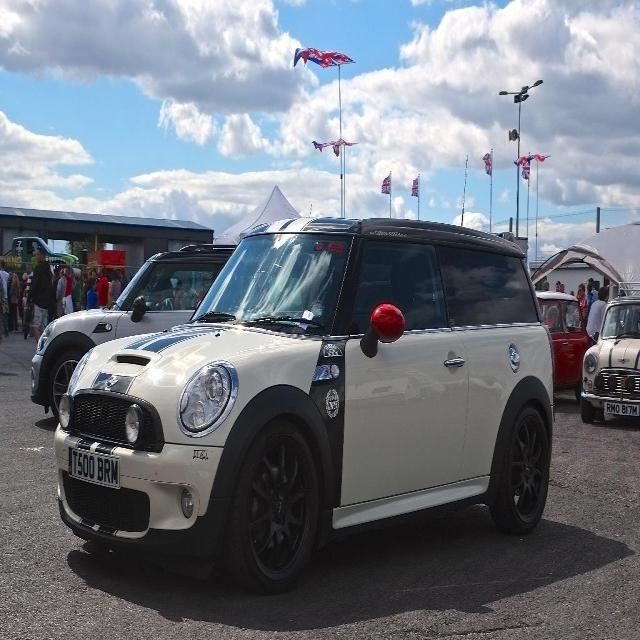car: (54, 216, 554, 589)
